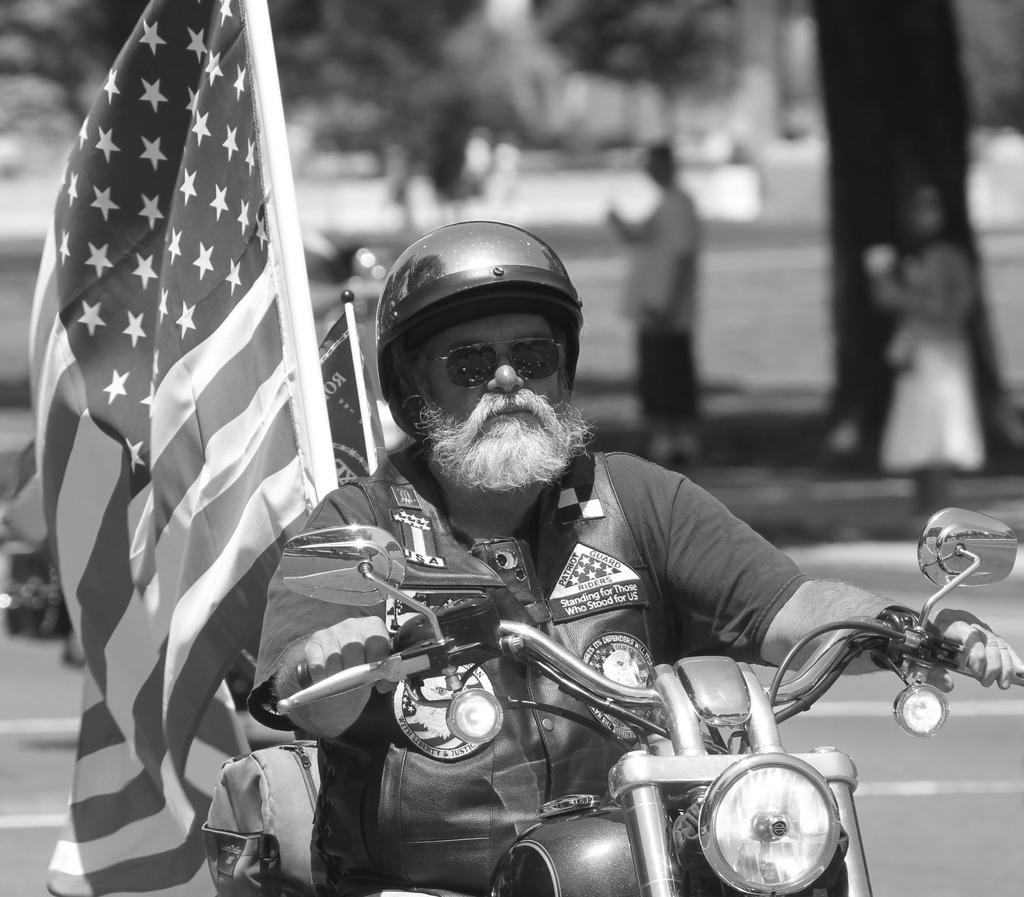helmet: (375, 220, 584, 449)
